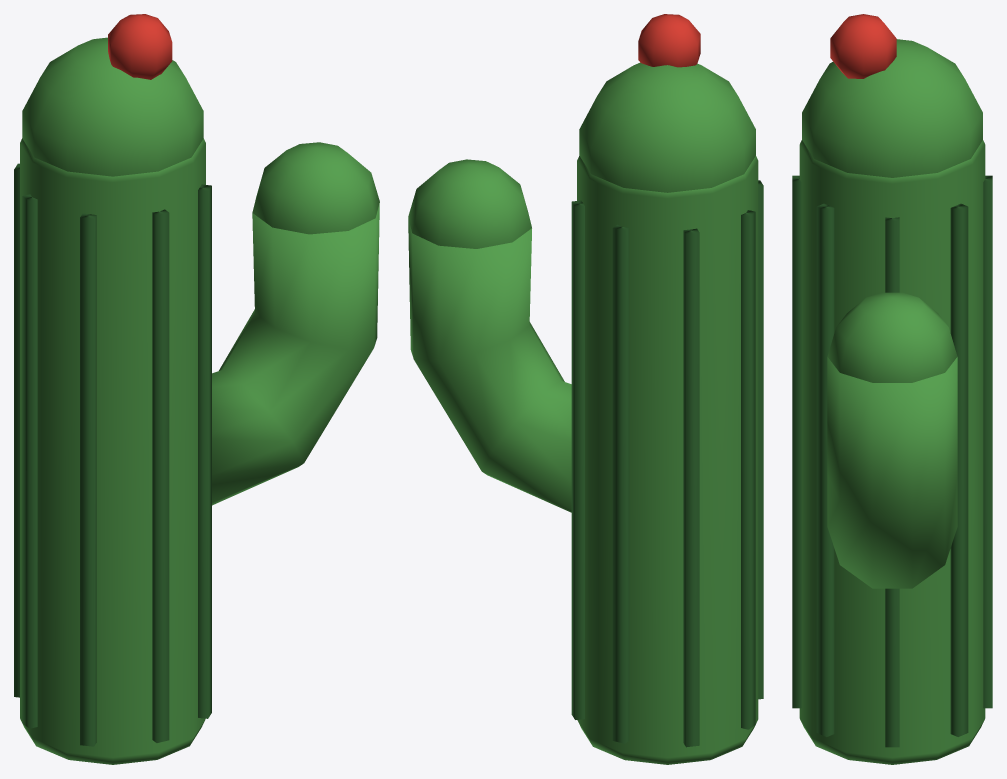
The model's file is gulch_cactus_b.glb.
The picture shows the model from 3 angles, left to right: view 1: azimuth 30°, elevation 25°; view 2: azimuth 150°, elevation 25°; view 3: azimuth 270°, elevation 25°; orthographic projection. The views are drawn at different scales.
Visible parts, largest first — view 1: Cactus; view 2: Cactus; view 3: Cactus.
Boxes of the visible parts, x1,y1,x2,y2 form: Cactus: (14, 14, 379, 764); Cactus: (408, 14, 763, 764); Cactus: (792, 14, 992, 764).
Size of the model in its own units: 1.36 by 2.74 by 0.69.
